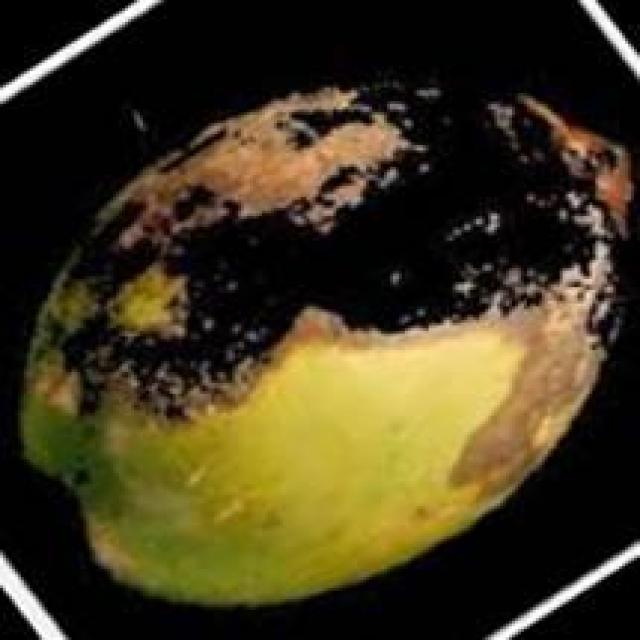damaged: (21, 82, 637, 613)
